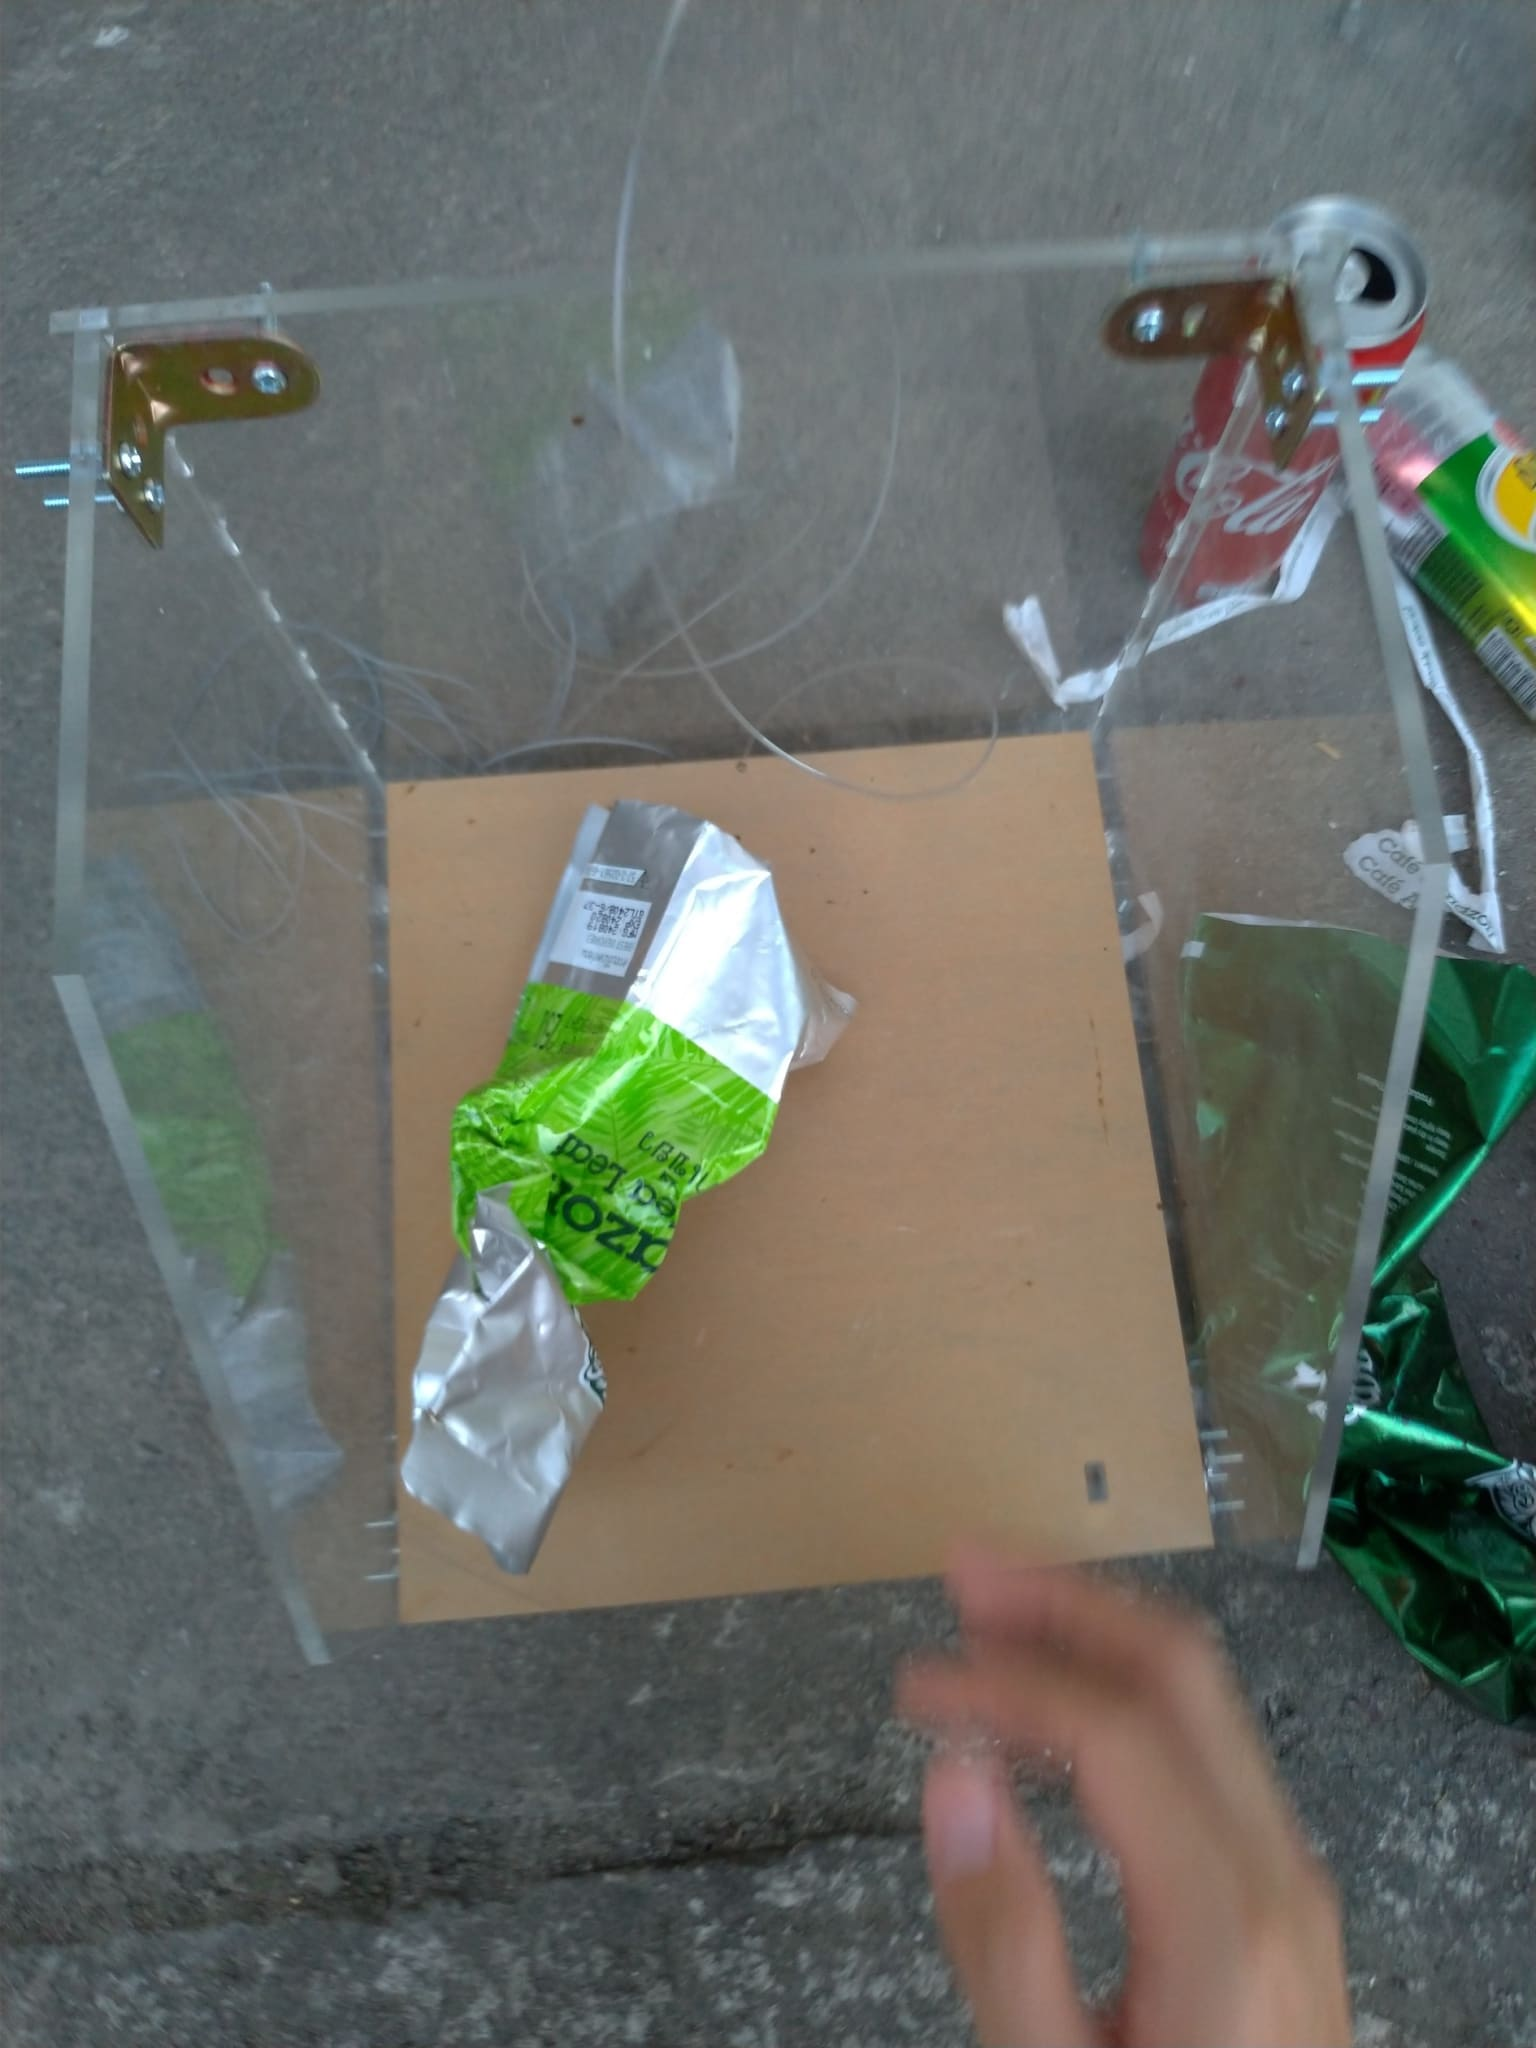AlCan: (1141, 195, 1430, 585)
Others: (390, 798, 866, 1567), (1170, 911, 1534, 1727), (1010, 502, 1347, 711), (1347, 572, 1521, 961), (1363, 364, 1536, 706)
